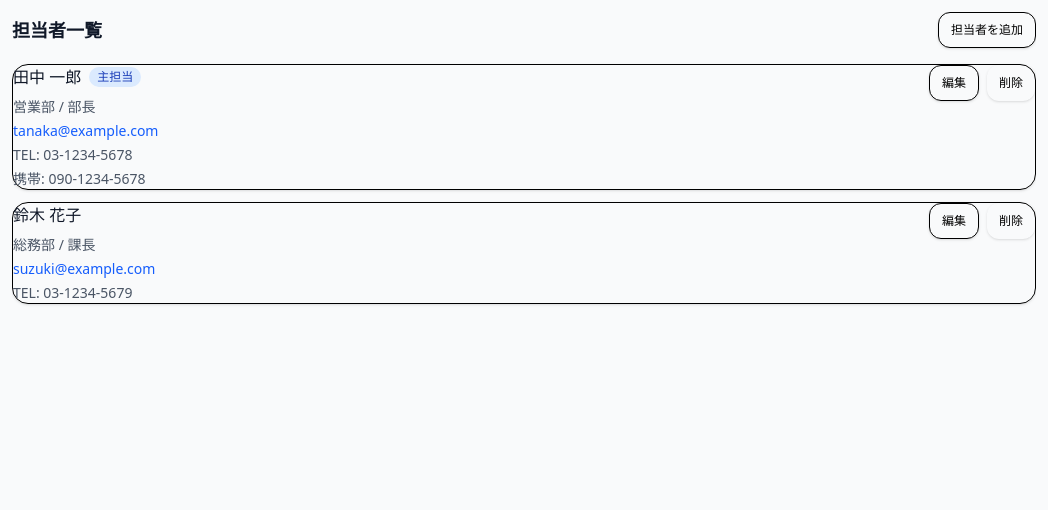
Test: CustomerContactList › 担当者編集 › 編集ボタンをクリックすると、編集フォームが表示される
Click the button "編集" in the row of "主担当" at [954, 83], box x1=929 y1=65 x2=979 y2=101
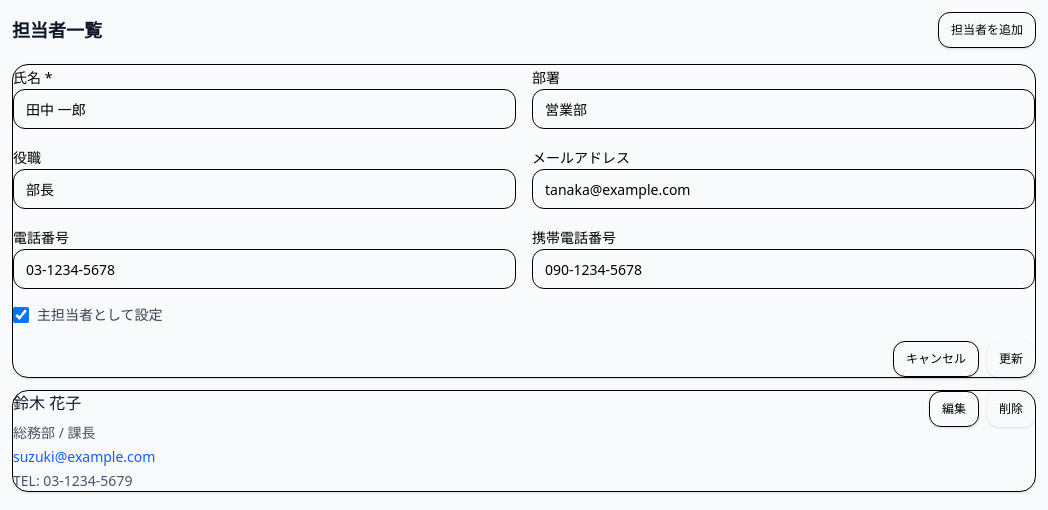
Now the field labelled "氏名 *" is shown, box x1=13 y1=89 x2=516 y2=129
